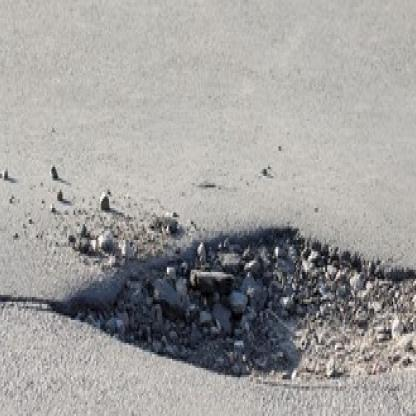pothole: (54, 220, 416, 393)
